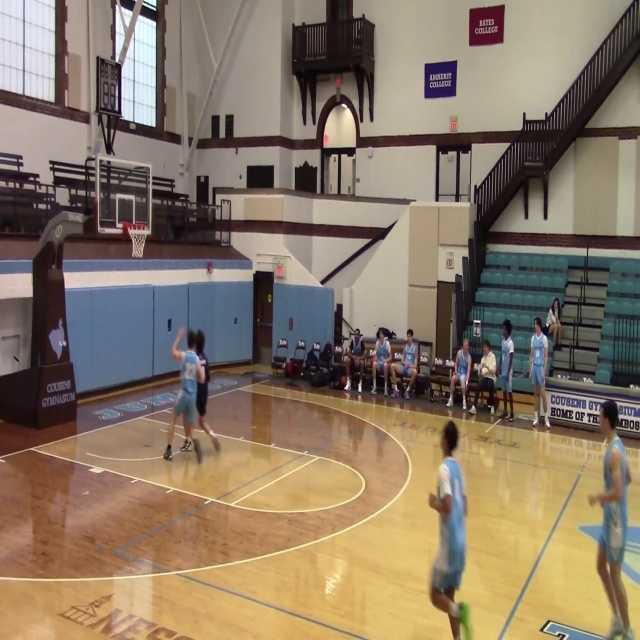Basketball: (339, 375, 346, 385), (557, 374, 562, 379)
